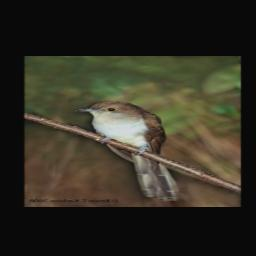Cuckoo: (77, 100, 181, 201)
